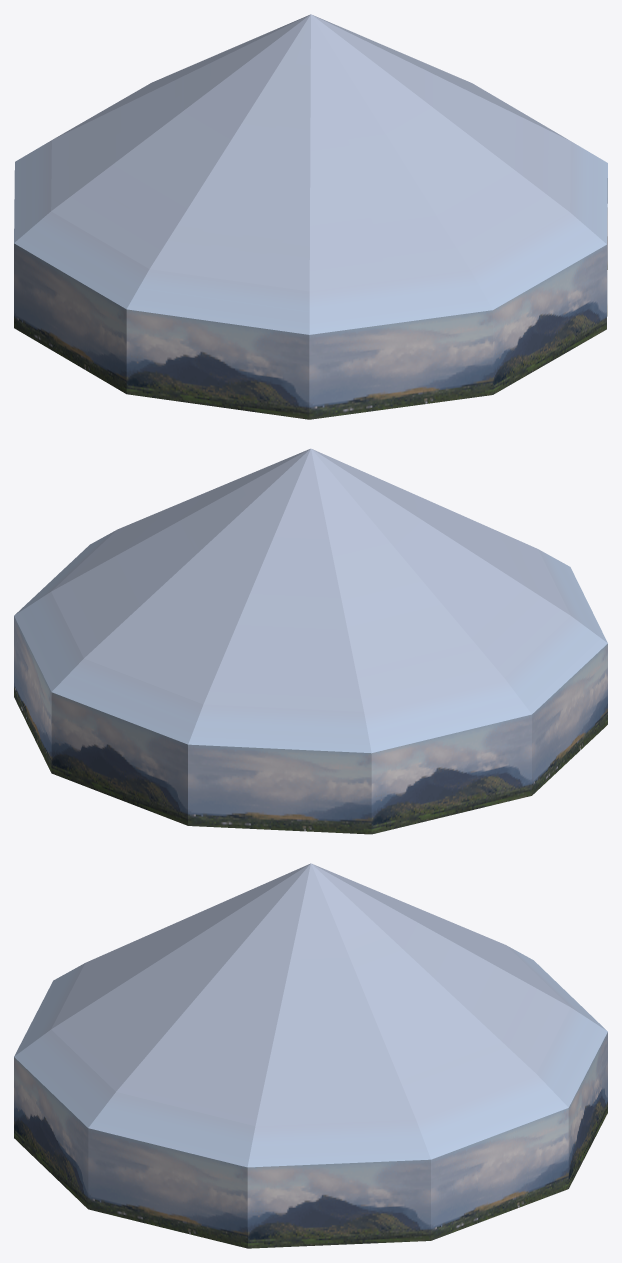
The picture shows the model from 3 angles, top to bottom: view 1: azimuth 30°, elevation 25°; view 2: azimuth 150°, elevation 25°; view 3: azimuth 270°, elevation 25°; orthographic projection. The views are drawn at different scales.
Visible parts, largest first — view 1: mesh00; view 2: mesh00; view 3: mesh00.
Part boxes in pixels (<box>): mesh00: <box>14,14,607,419</box>; mesh00: <box>14,448,607,834</box>; mesh00: <box>14,863,607,1248</box>.
Size of the model in its own units: 100558 by 57499 by 102399.
Materials: 1 (1 with a texture image).
